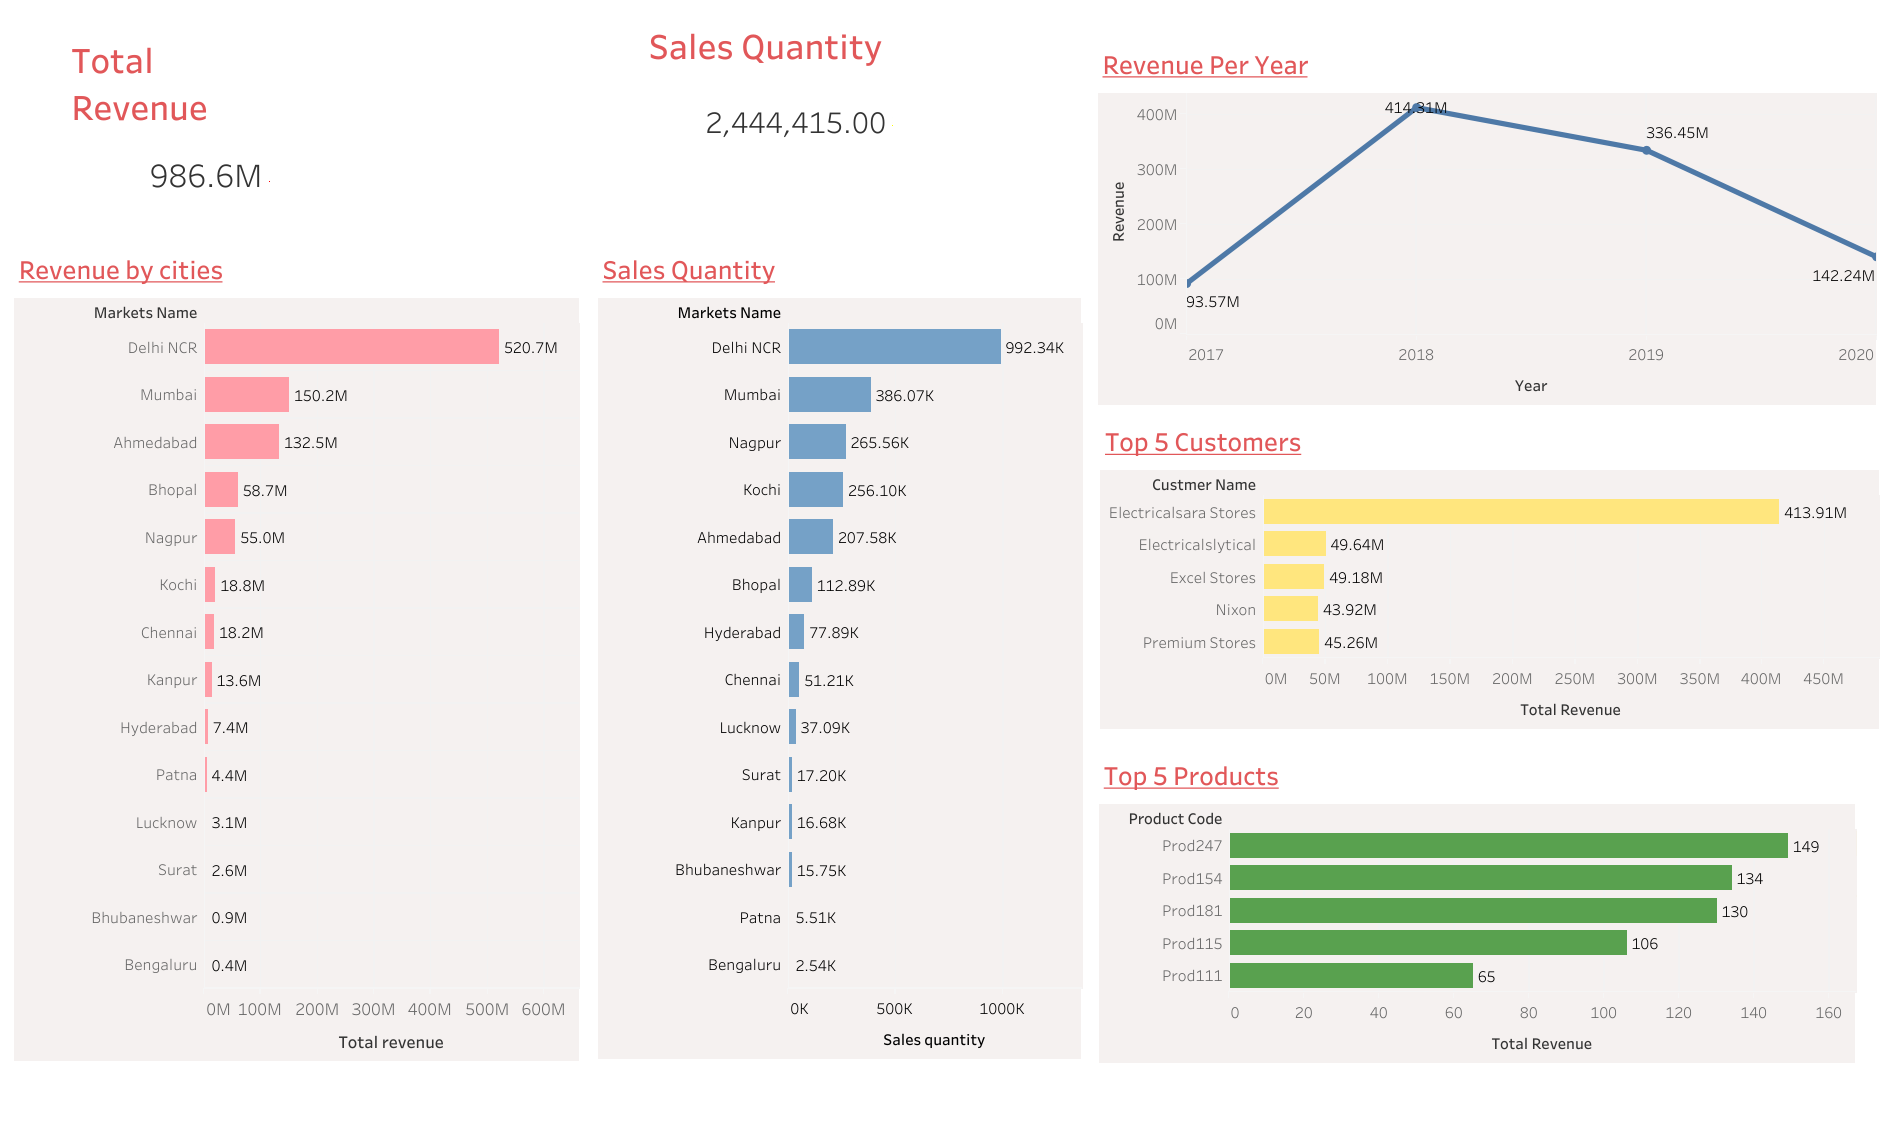

The dashboard page shown, as its layout file describes it:
{"tool":"tableau","page":{"name":"Sales Insight Dashboard","canvas":[1000,1000],"units":"permille","ordinal":0},"visuals":[{"type":"worksheet","title":"Sheet 3","mark":"Automatic","box":[342,12.2,207.3,191.1]},{"type":"worksheet","title":"Sheet 2","mark":"Automatic","box":[35.3,24.4,213.3,178.9]},{"type":"worksheet","title":"Sheet 7","mark":"Line","rows":["revenue"],"cols":["year"],"box":[583.3,34.5,414.3,326.3]},{"type":"worksheet","title":"Sheet 1","mark":"Automatic","rows":["markets_name"],"cols":["Total_revenue"],"box":[7.3,217.2,300.2,750.6]},{"type":"worksheet","title":"Sheet 4","mark":"Automatic","rows":["markets_name"],"cols":["Sales_quantity"],"box":[317.9,217.2,256.9,746.1]},{"type":"worksheet","title":"Sheet 5","mark":"Automatic","rows":["custmer_name"],"cols":["Total_Revenue"],"box":[584.5,370.8,414.3,290.7]},{"type":"worksheet","title":"Sheet 6","mark":"Automatic","rows":["product_code"],"cols":["Total_Revenue"],"box":[583.9,668.1,402.1,292.9]}]}

Visuals, with their boxes on the dashboard's canvas, which has no fixed pixel size, in thousandths of its width and height (x1, y1, x2, y2). These are canvas units, not pixel positions in the 1880x1121 screenshot, which may show the page scaled, cropped or inside an application window:
"Sheet 3" worksheet: [342,12,549,203]
"Sheet 2" worksheet: [35,24,249,203]
"Sheet 7" worksheet (Line marks): [583,34,998,361]
"Sheet 1" worksheet: [7,217,308,968]
"Sheet 4" worksheet: [318,217,575,963]
"Sheet 5" worksheet: [584,371,999,662]
"Sheet 6" worksheet: [584,668,986,961]
